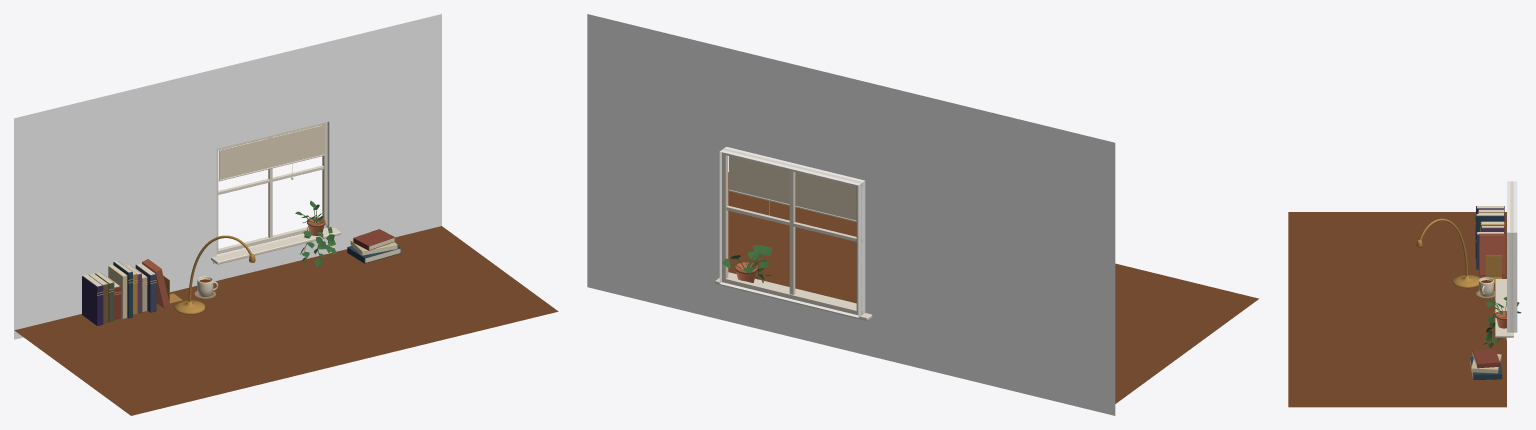
File: set.glb
3 renders of one model, left to right at view 1: azimuth 30°, elevation 25°; view 2: azimuth 150°, elevation 25°; view 3: azimuth 270°, elevation 25°, orthographic. The views are drawn at different scales.
Visible parts, largest first — view 1: wall, desk, detail; view 2: wall, desk, detail; view 3: desk, detail, wall.
Boxes of the visible parts, x1,y1,x2,y2 form: wall: (14, 14, 441, 339); desk: (14, 226, 558, 415); detail: (82, 122, 400, 325); wall: (587, 14, 1115, 415); desk: (728, 172, 1258, 403); detail: (715, 148, 872, 321); desk: (1288, 212, 1506, 407); detail: (1416, 181, 1521, 380); wall: (1507, 181, 1517, 332).
Bounding box in the file's own units: 19 × 9.51 × 9.6.
